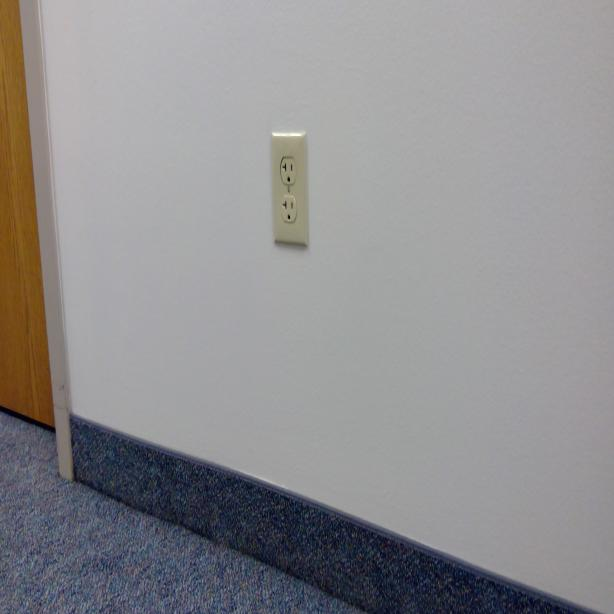typeb: (281, 192, 298, 222), (279, 156, 296, 185)
